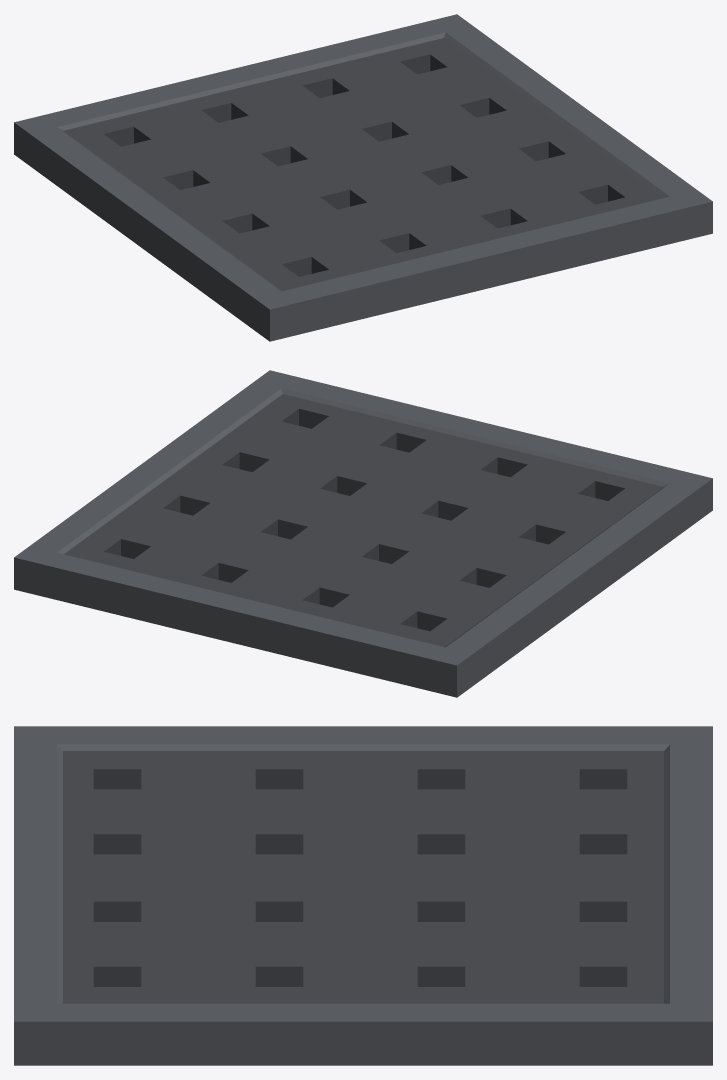
The model's file is SM_Obstacle_01_A_Base.fbx.
3 views of the same model, one above another, from view 1: azimuth 30°, elevation 25°; view 2: azimuth 150°, elevation 25°; view 3: azimuth 270°, elevation 25° (orthographic). The views are drawn at different scales.
Visible parts, largest first — view 1: pCube552; view 2: pCube552; view 3: pCube552.
Boxes of the visible parts, x1=… form: pCube552: x1=14, y1=14, x2=712, y2=341; pCube552: x1=14, y1=370, x2=712, y2=697; pCube552: x1=14, y1=726, x2=712, y2=1065.
Size of the model in its own units: 99.81 by 6.91 by 99.81.
1 material, 1 textured.
